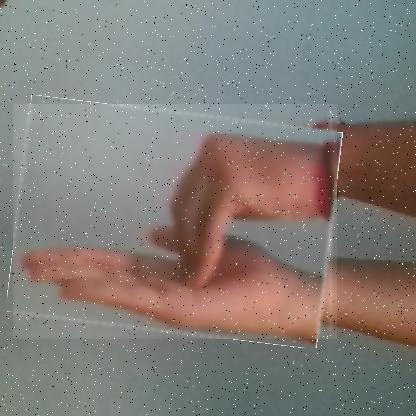Z: (12, 104, 337, 340)
